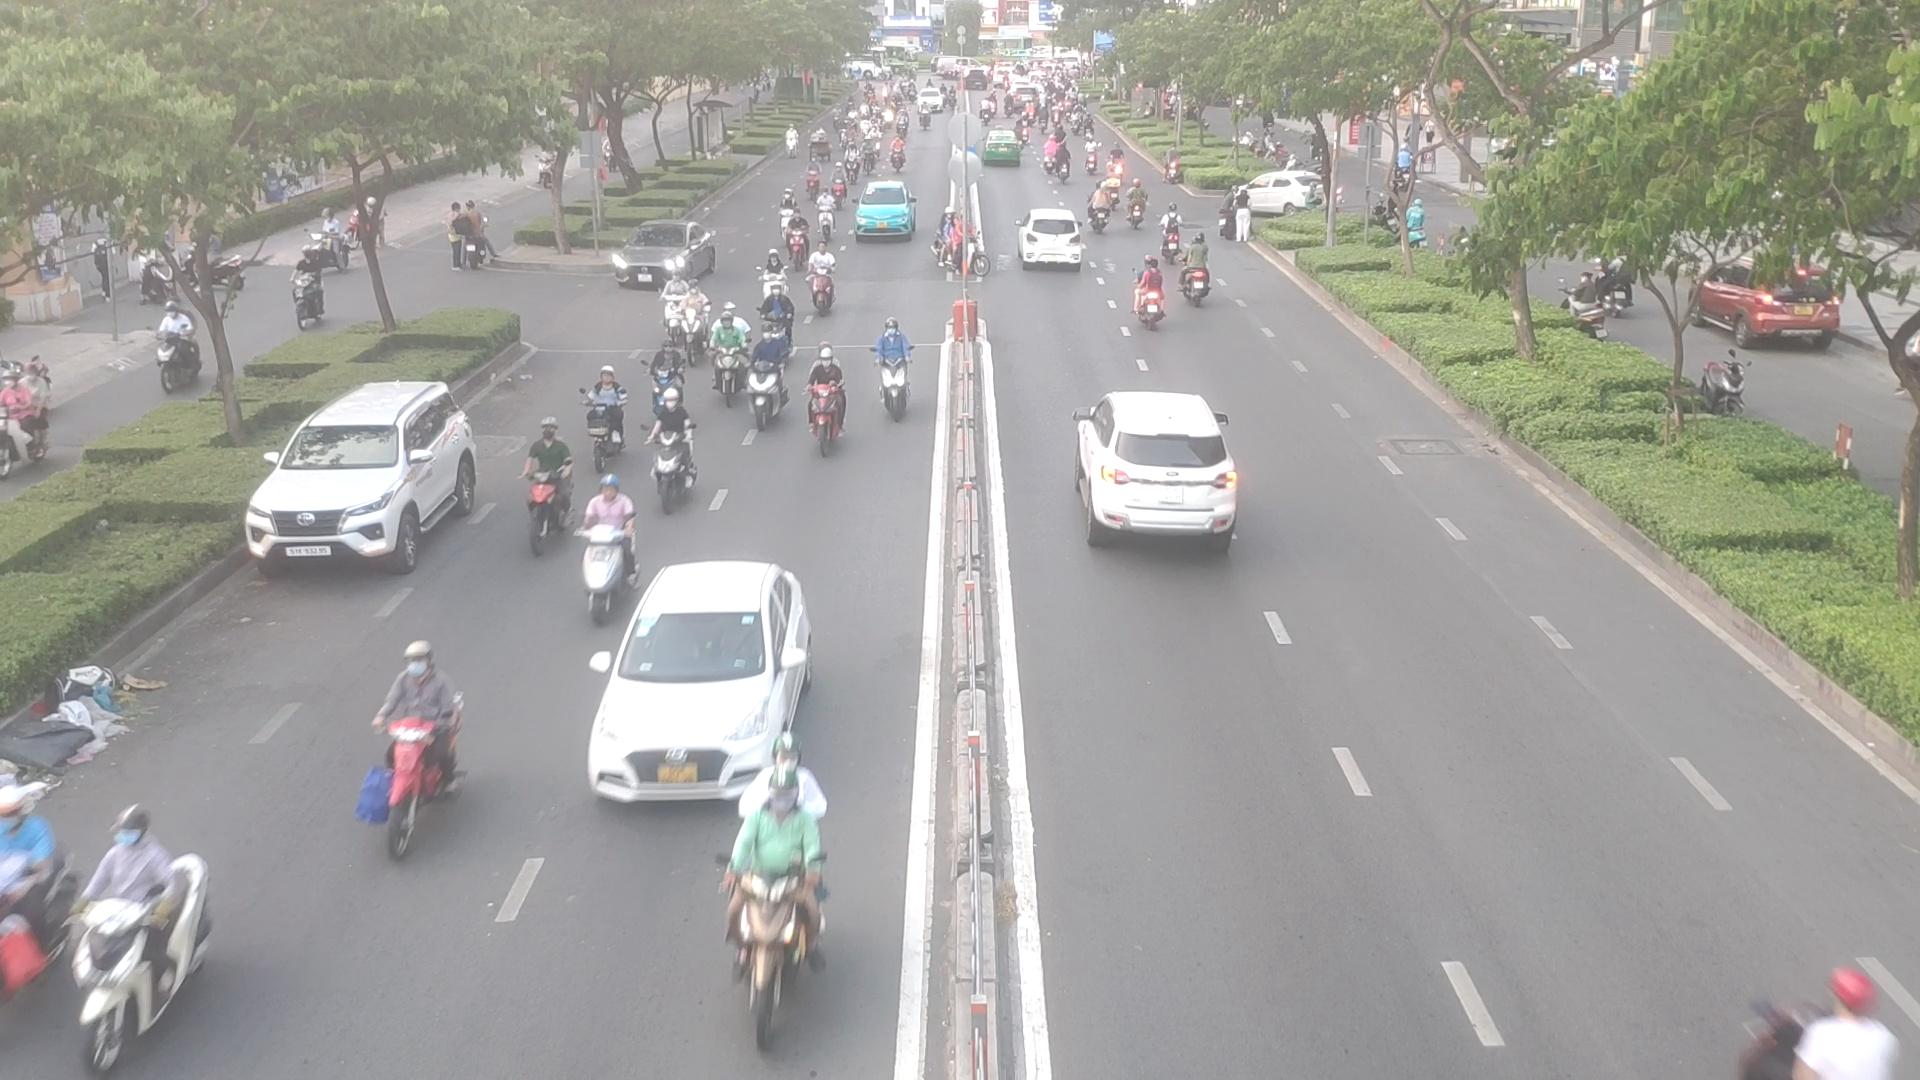car: (579, 554, 818, 808), (244, 382, 489, 578), (1080, 393, 1247, 541), (613, 223, 720, 293), (1018, 206, 1087, 272), (1236, 173, 1324, 219), (855, 181, 920, 241)
motorbike: (713, 736, 827, 1033), (95, 811, 228, 1046), (357, 651, 465, 856), (0, 773, 69, 1007), (501, 411, 559, 585), (636, 371, 698, 526), (575, 468, 636, 624), (731, 309, 798, 443), (873, 309, 923, 451), (571, 343, 622, 465), (811, 326, 851, 454), (938, 214, 990, 282), (673, 287, 713, 371), (640, 345, 688, 411), (1182, 225, 1212, 315), (717, 305, 746, 396), (655, 273, 684, 357), (1083, 175, 1116, 249), (808, 237, 839, 316), (764, 291, 800, 352), (1133, 258, 1164, 324), (757, 237, 789, 302), (1163, 208, 1183, 265), (808, 187, 833, 229), (785, 214, 803, 269), (778, 181, 794, 229), (1130, 183, 1145, 233)
